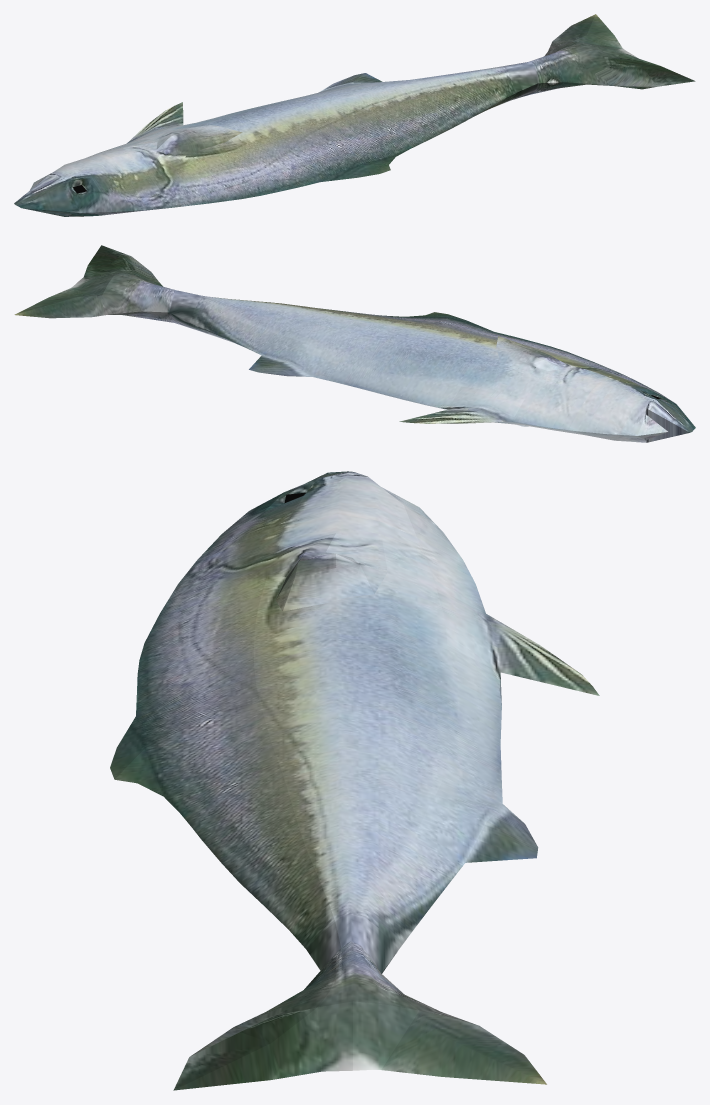
Rendered from Fish.fbx.
3 renders of one model, top to bottom at view 1: azimuth 30°, elevation 25°; view 2: azimuth 150°, elevation 25°; view 3: azimuth 270°, elevation 25°, orthographic. The views are drawn at different scales.
Visible parts, largest first — view 1: Fish2; view 2: Fish2; view 3: Fish2.
Boxes of the visible parts, x1,y1,x2,y2 form: Fish2: [14, 14, 695, 216]; Fish2: [14, 245, 695, 442]; Fish2: [110, 471, 599, 1090].
Bounding box in the file's own units: 428 × 45.19 × 143.
2 materials, 1 textured.
